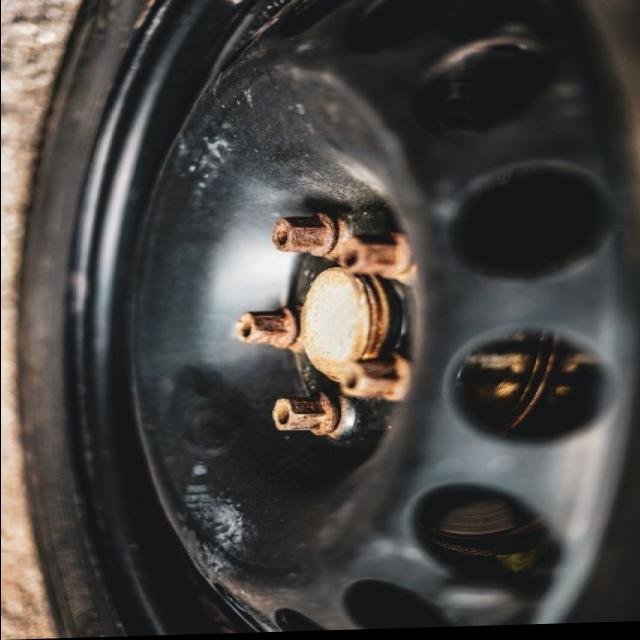Rusty bolt: (274, 215, 336, 258), (338, 238, 402, 276), (344, 363, 402, 399), (274, 395, 330, 432), (240, 312, 294, 349)
